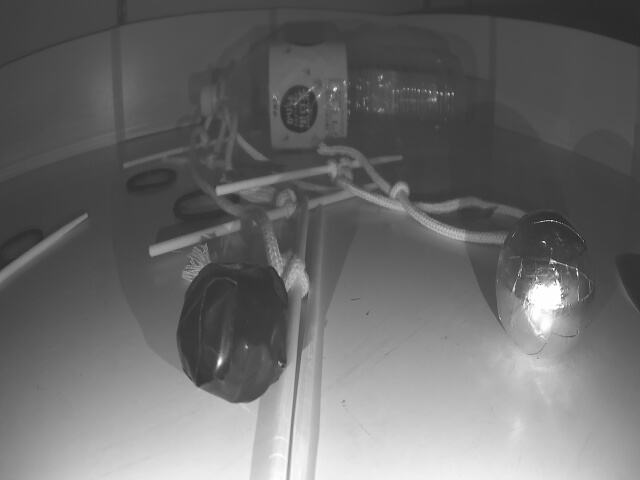Dead: (172, 258, 295, 405)
Live: (495, 208, 597, 367)
